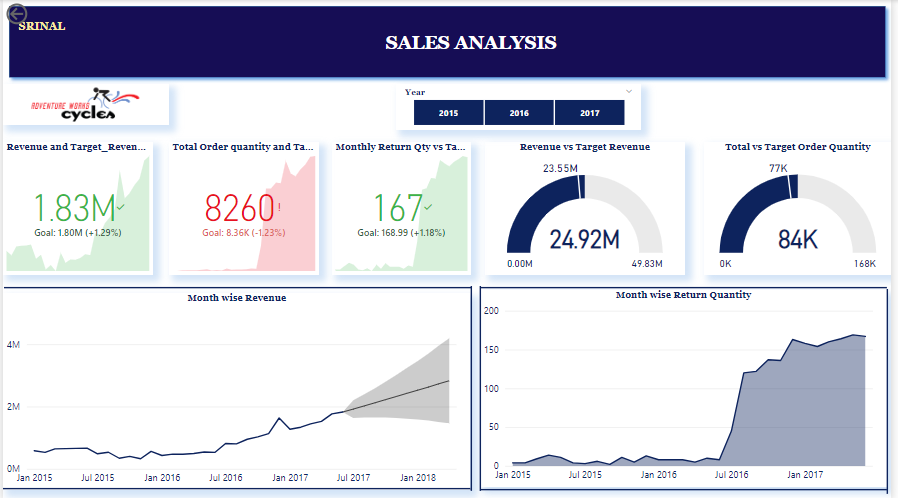

Layout of this report page (visuals, bound fields, positions):
{"tool":"powerbi","page":{"name":"Analysis2","canvas":[1280,720],"ordinal":1},"visuals":[{"type":"shape","box":[0,0,1279.7,120.3],"z":0},{"type":"textbox","box":[270.3,42.2,806.2,60.9],"z":1000},{"type":"slicer","fields":{"Values":["Calendar.Date.Variation.Date Hierarchy.Year"]},"box":[565.6,120.3,353.1,65.6],"z":3000},{"type":"image","box":[0,120.3,239.1,59.4],"z":4000},{"type":"textbox","box":[17.2,23.4,89.1,37.5],"z":5000},{"type":"gauge","title":"Total vs Target Order Quantity","fields":{"Y":["All Measures.Total Order quantity"],"TargetValue":["All Measures.Target_order_quantity"]},"box":[1009.4,204.7,270.3,190.6],"z":6000},{"type":"gauge","title":"Revenue vs Target Revenue","fields":{"Y":["All Measures.Revenue"],"TargetValue":["All Measures.Target_Revenue"]},"box":[693.8,204.7,287.5,190.6],"z":7000},{"type":"kpi","fields":{"Indicator":["All Measures.Revenue"],"Goal":["All Measures.Target_Revenue"],"TrendLine":["Calendar.Start of Month"]},"box":[0,204.7,215.6,190.6],"z":8000},{"type":"kpi","fields":{"Indicator":["All Measures.Total Order quantity"],"Goal":["All Measures.Target_order_quantity"],"TrendLine":["Calendar.Start of Month"]},"box":[239.1,204.7,215.6,190.6],"z":9000},{"type":"kpi","title":"Monthly Return Qty vs Target Return Qty","fields":{"Indicator":["All Measures.Total Return Quantity"],"TrendLine":["Calendar.Start of Month"],"Goal":["All Measures.TARGET_RETURN_QTY"]},"box":[473.4,204.7,200,190.6],"z":10000},{"type":"lineChart","title":"Month wise Revenue ","fields":{"Y":["All Measures.Revenue"],"Category":["Calendar.Start of Month"]},"box":[0,421.9,673.4,284.4],"z":11000},{"type":"areaChart","title":"Month wise Return Quantity","fields":{"Category":["Calendar.Start of Month"],"Y":["All Measures.Total Return Quantity"]},"box":[687.5,417.2,585.9,284.4],"z":12000},{"type":"shape","box":[1.6,412.5,673.4,4.7],"z":13000},{"type":"shape","box":[0,701.6,673.4,4.7],"z":14000},{"type":"shape","box":[687.5,412.5,585.9,4.7],"z":15000},{"type":"shape","box":[687.5,703.1,585.9,4.7],"z":16000},{"type":"shape","box":[681.2,412.5,12.5,295.3],"z":17000},{"type":"shape","box":[1267.2,415.6,12.5,295.3],"z":18000},{"type":"shape","box":[668.8,412.5,12.5,295.3],"z":19000},{"type":"actionButton","box":[0,0,100,40],"z":20000}]}

Visuals, with their boxes in screenshot pixels (x1, y1, x2, y2), scaled from the page's 1280x720 canvas onto the 898x498 screenshot:
shape: (0, 0, 897, 83)
textbox: (190, 29, 755, 71)
slicer - Calendar.Date.Variation.Date Hierarchy.Year: (397, 83, 645, 129)
image: (0, 83, 168, 124)
textbox: (12, 16, 75, 42)
"Total vs Target Order Quantity" gauge: (708, 142, 897, 273)
"Revenue vs Target Revenue" gauge: (487, 142, 688, 273)
kpi - All Measures.Revenue x All Measures.Target_Revenue: (0, 142, 151, 273)
kpi - All Measures.Total Order quantity x All Measures.Target_order_quantity: (168, 142, 319, 273)
"Monthly Return Qty vs Target Return Qty" kpi: (332, 142, 472, 273)
"Month wise Revenue " lineChart: (0, 292, 472, 489)
"Month wise Return Quantity" areaChart: (482, 289, 893, 485)
shape: (1, 285, 474, 289)
shape: (0, 485, 472, 489)
shape: (482, 285, 893, 289)
shape: (482, 486, 893, 490)
shape: (478, 285, 487, 490)
shape: (889, 287, 897, 492)
shape: (469, 285, 478, 490)
actionButton: (0, 0, 70, 28)
